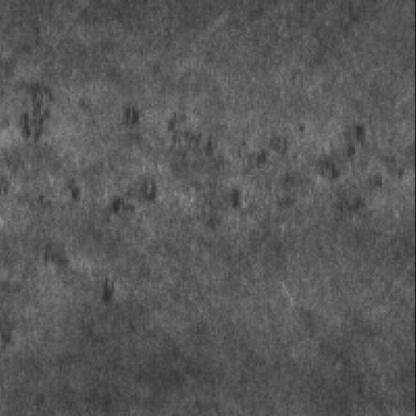rolled-in_scale: (6, 104, 275, 218), (289, 123, 416, 218), (2, 73, 73, 168)
